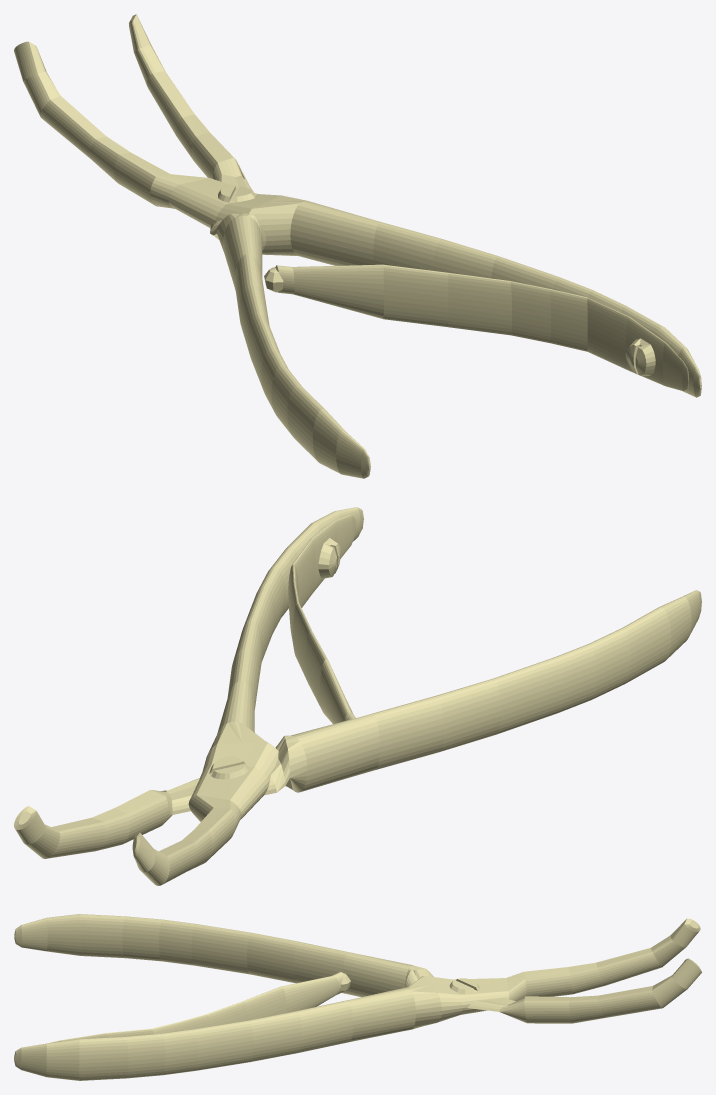
File: TangSkyddSkallBorning.fbx
3 views of the same model, one above another, from view 1: azimuth 30°, elevation 25°; view 2: azimuth 150°, elevation 25°; view 3: azimuth 270°, elevation 25° (orthographic). The views are drawn at different scales.
Parts seen in each view (by area): view 1: Right, Left; view 2: Left, Right; view 3: Right, Left.
Part boxes in pixels (x1=…): Right: x1=14, y1=41, x2=701, y2=397; Left: x1=129, y1=14, x2=370, y2=478; Left: x1=14, y1=590, x2=701, y2=858; Right: x1=132, y1=507, x2=363, y2=885; Right: x1=14, y1=918, x2=700, y2=1080; Left: x1=14, y1=914, x2=701, y2=1023.
Size of the model in its own units: 136 by 37.07 by 299.
